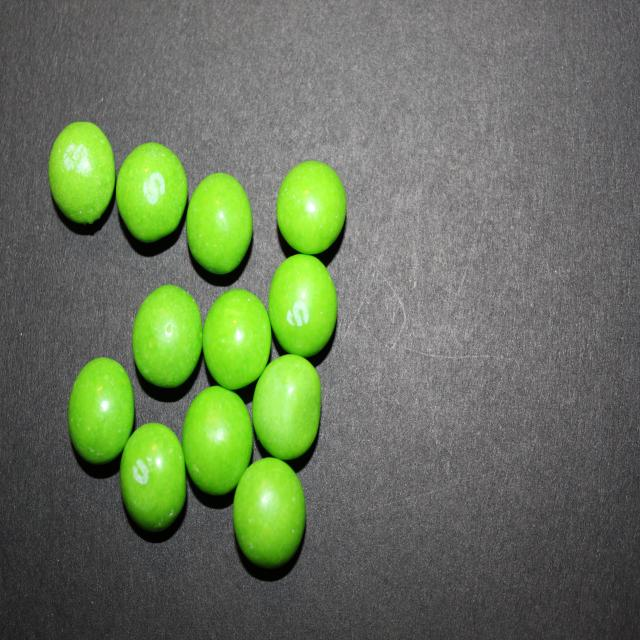smartie: (233, 458, 306, 569), (182, 386, 253, 496), (252, 354, 321, 460), (119, 423, 186, 532), (132, 284, 202, 387), (115, 142, 187, 242), (268, 253, 337, 357), (67, 358, 133, 464), (202, 289, 271, 390), (48, 121, 115, 223), (276, 160, 347, 254), (186, 172, 252, 273)
